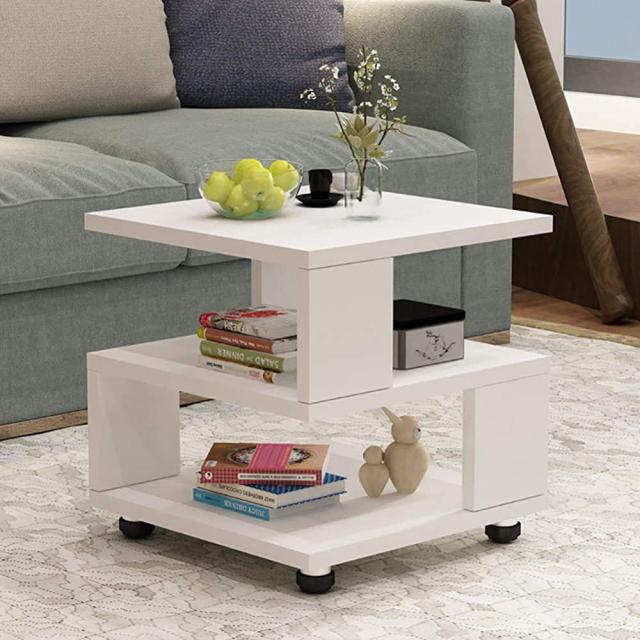Dish: (198, 152, 310, 226)
beside table: (131, 128, 530, 568)
